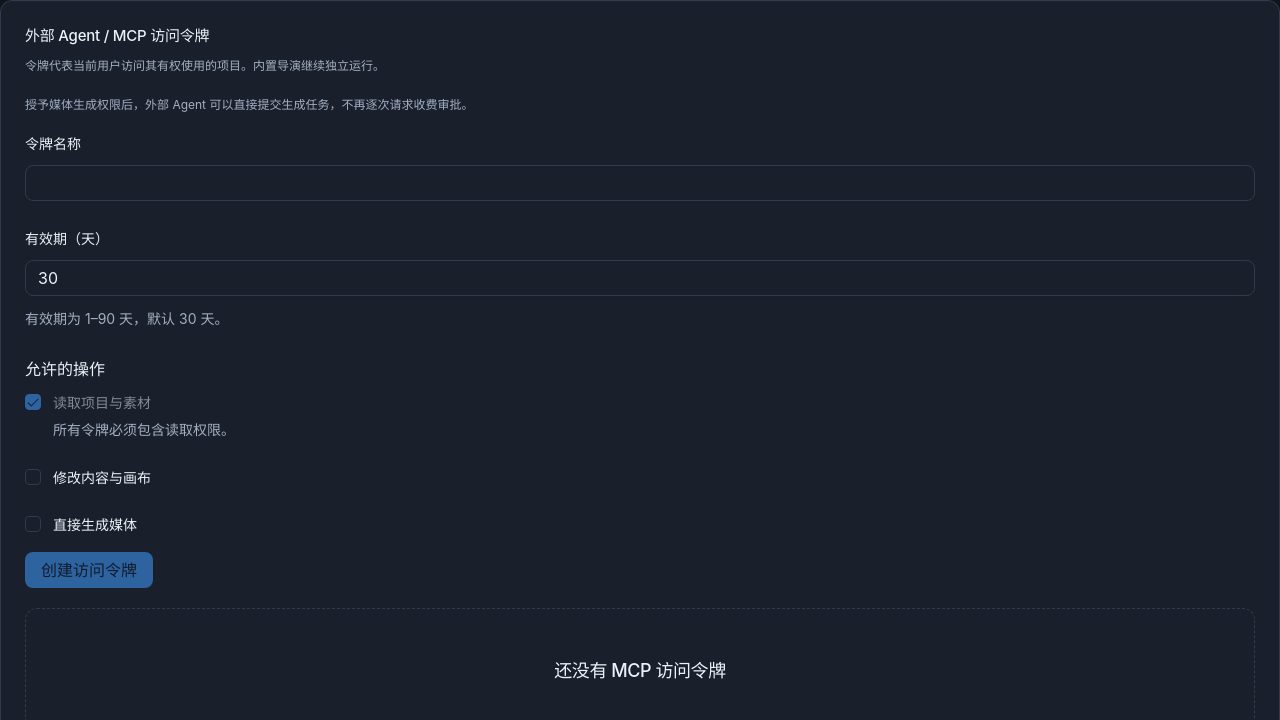
Scenario: McpTokensSection › retains name, scopes and expiry after a failed create and allows an explicit retry
The width and height of the screenshot is (1280, 720).
Expected: the text "还没有 MCP 访问令牌" is shown, [554,657,726,685]
In the field labelled "令牌名称": (640, 183) [25,165,1255,201], type "Keep draft"
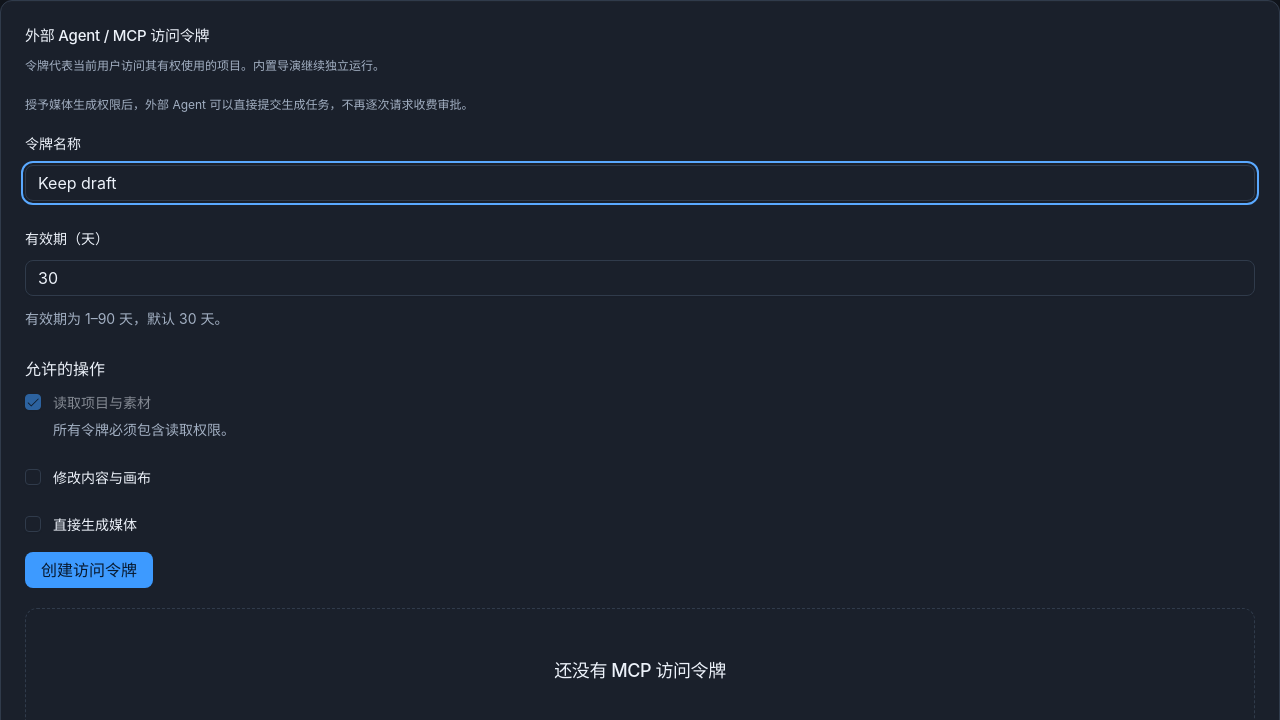
Replace the text in the number field labelled "有效期（天）" with "7": (640, 278) [25,260,1255,296]
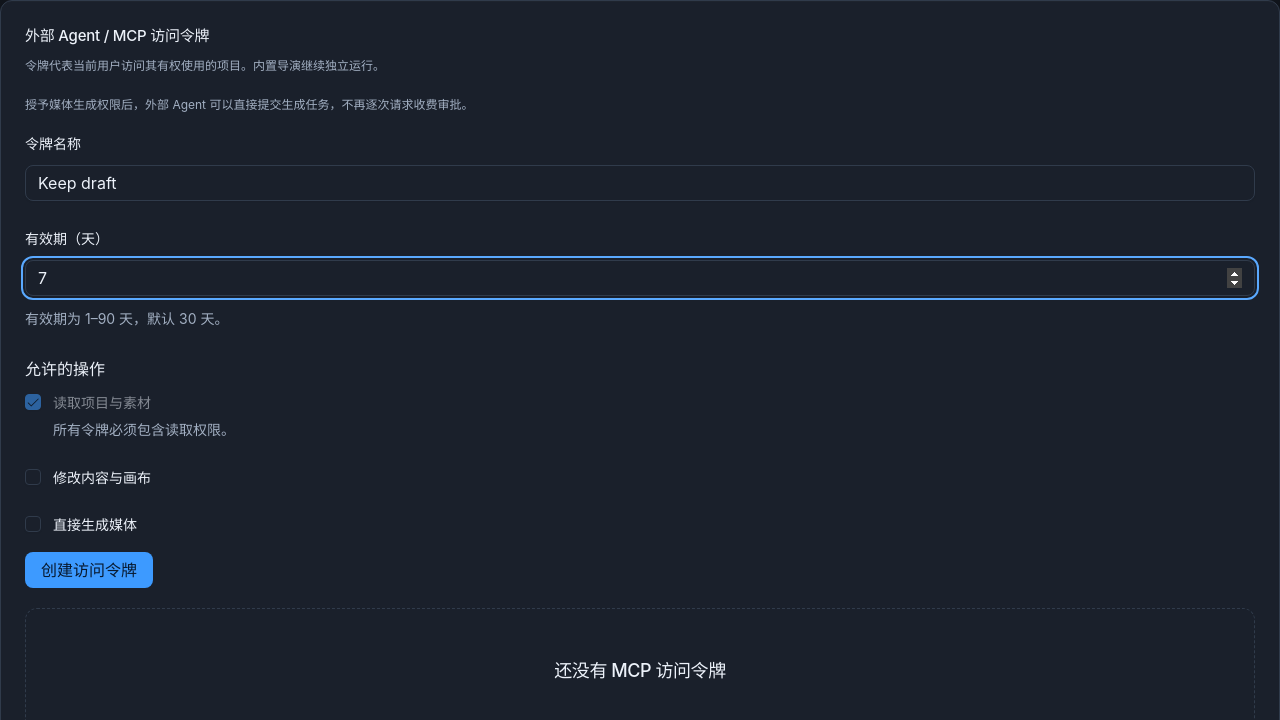
Click the checkbox named "修改内容与画布" next to "修改内容与画布": (33, 477) [25,469,41,485]
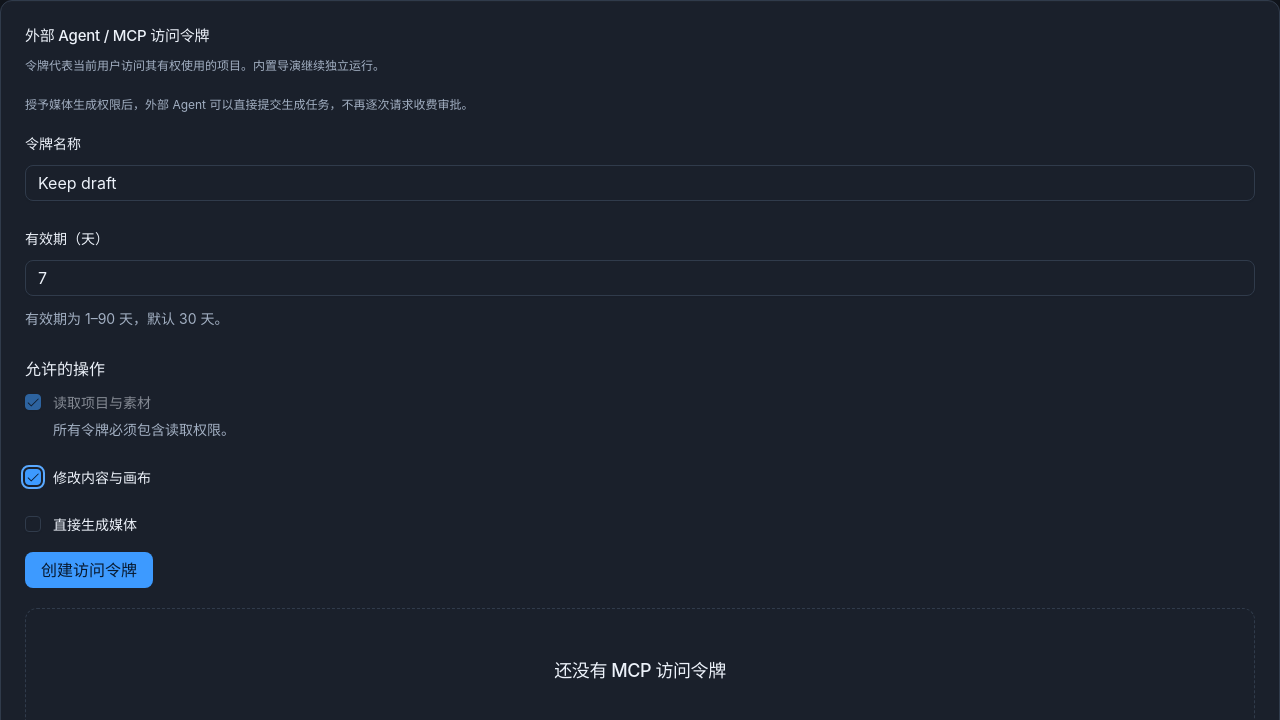
Click the button "创建访问令牌": (89, 570) [25,552,153,588]
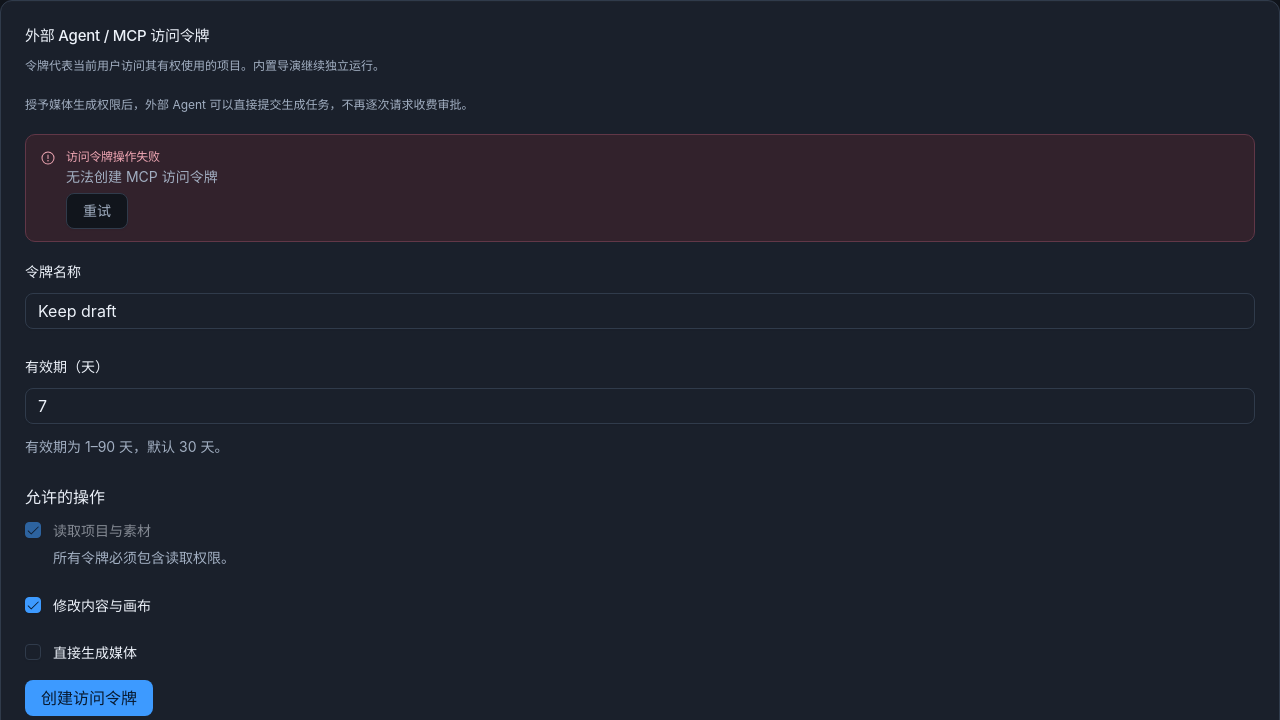
Now the checkbox named "修改内容与画布" next to "修改内容与画布" is checked, box [25,597,41,613]
Now the text "无法创建 MCP 访问令牌" is shown, box [66,166,218,189]
Click the button "创建访问令牌": (89, 698) [25,680,153,716]
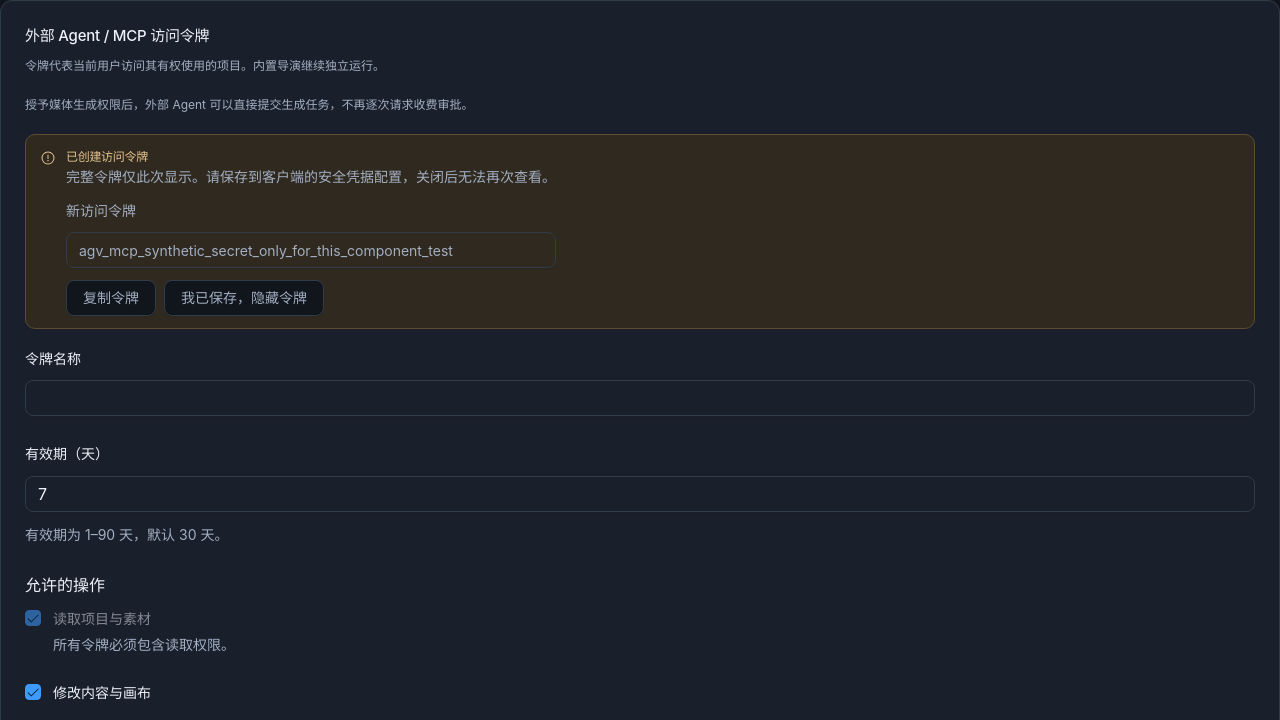
Now the field labelled "新访问令牌" holds "agv_mcp_synthetic_secret_only_for_this_component_test", box [66,232,556,268]
